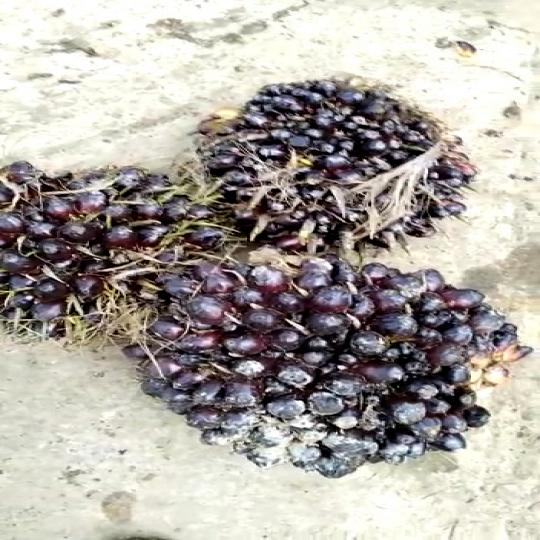mentah: (126, 257, 516, 480), (157, 73, 475, 256), (0, 144, 223, 332)
